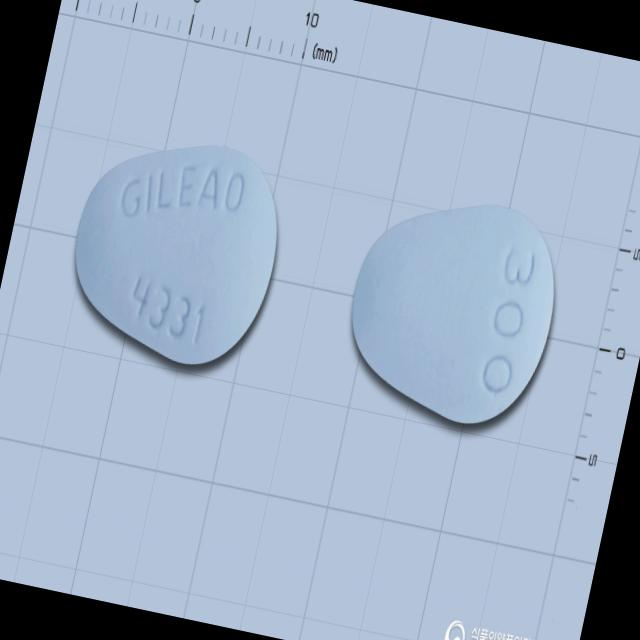Viread Tab: (54, 120, 297, 381), (331, 176, 574, 437)
